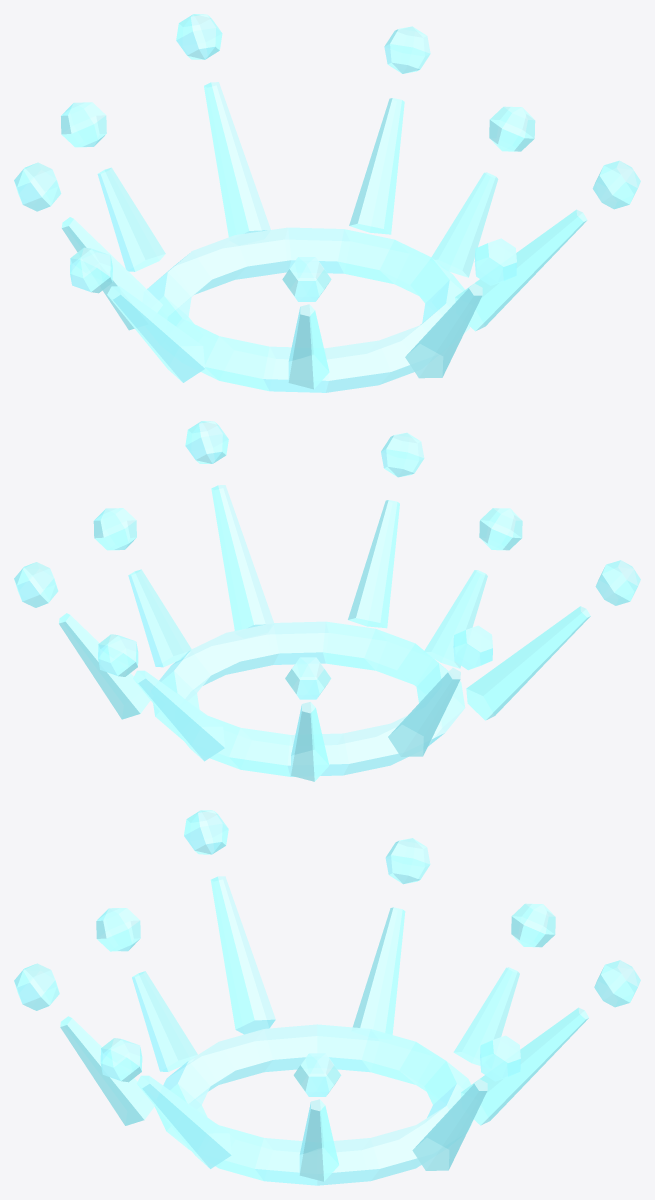
The model's file is splash_crown.glb.
3 renders of one model, top to bottom at view 1: azimuth 30°, elevation 25°; view 2: azimuth 150°, elevation 25°; view 3: azimuth 270°, elevation 25°, orthographic. The views are drawn at different scales.
Parts seen in each view (by area): view 1: splash_crown; view 2: splash_crown; view 3: splash_crown.
Boxes of the visible parts, left/top/right/bottom form: splash_crown: left=14, top=14, right=640, bottom=392; splash_crown: left=14, top=421, right=640, bottom=781; splash_crown: left=14, top=810, right=640, bottom=1185.
Size of the model in its own units: 0.2935 by 0.1027 by 0.3146.
